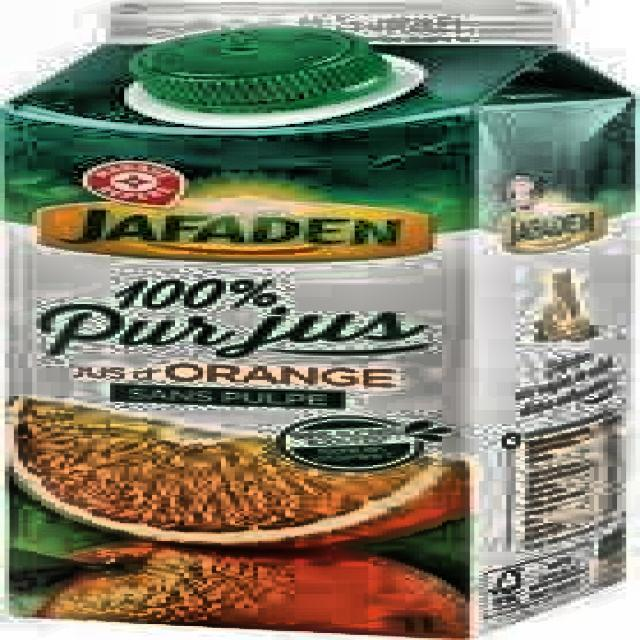cardboard: (0, 0, 635, 638)
